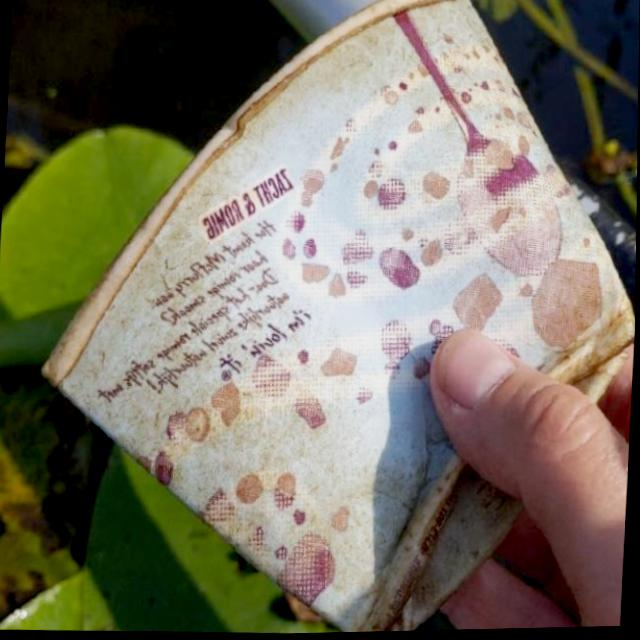Paper: (23, 0, 640, 639)
